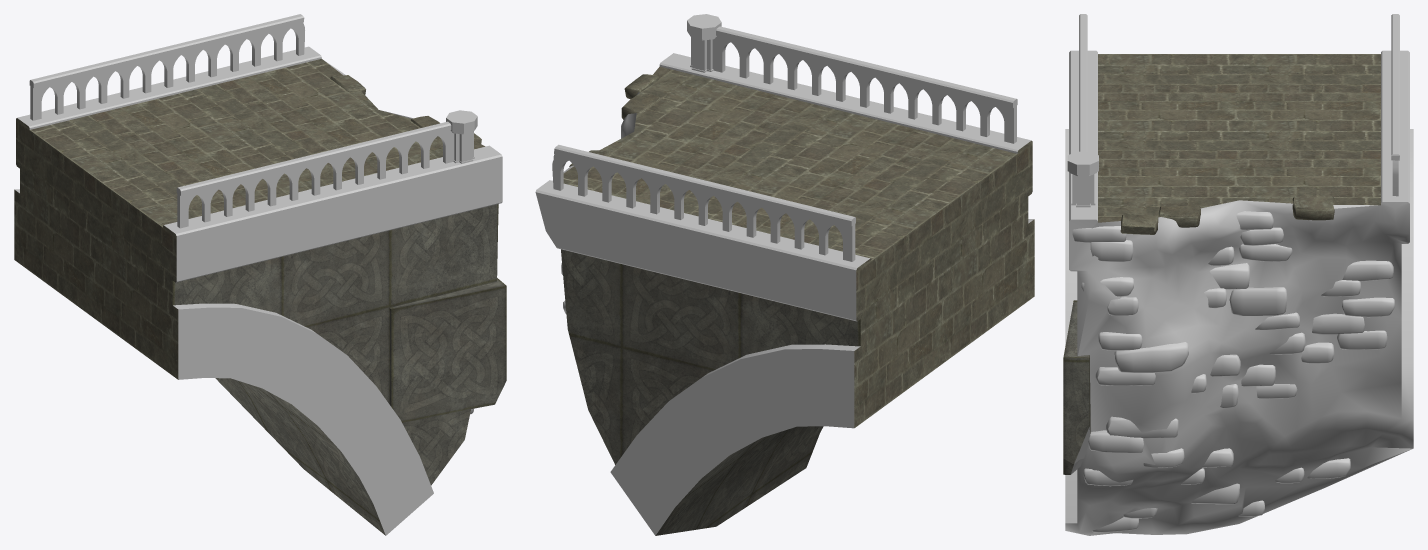
The model's file is bridge_destroyed_02.fbx.
3 renders of one model, left to right at view 1: azimuth 30°, elevation 25°; view 2: azimuth 150°, elevation 25°; view 3: azimuth 270°, elevation 25°, orthographic. The views are drawn at different scales.
Parts seen in each view (by area): view 1: bridge_destroyed_02; view 2: bridge_destroyed_02; view 3: bridge_destroyed_02.
Boxes of the visible parts, box(x1,y1,x2,y2) form: bridge_destroyed_02: box(14, 14, 506, 535); bridge_destroyed_02: box(535, 14, 1034, 535); bridge_destroyed_02: box(1063, 14, 1413, 535).
Size of the model in its own units: 907 by 1026 by 782.
